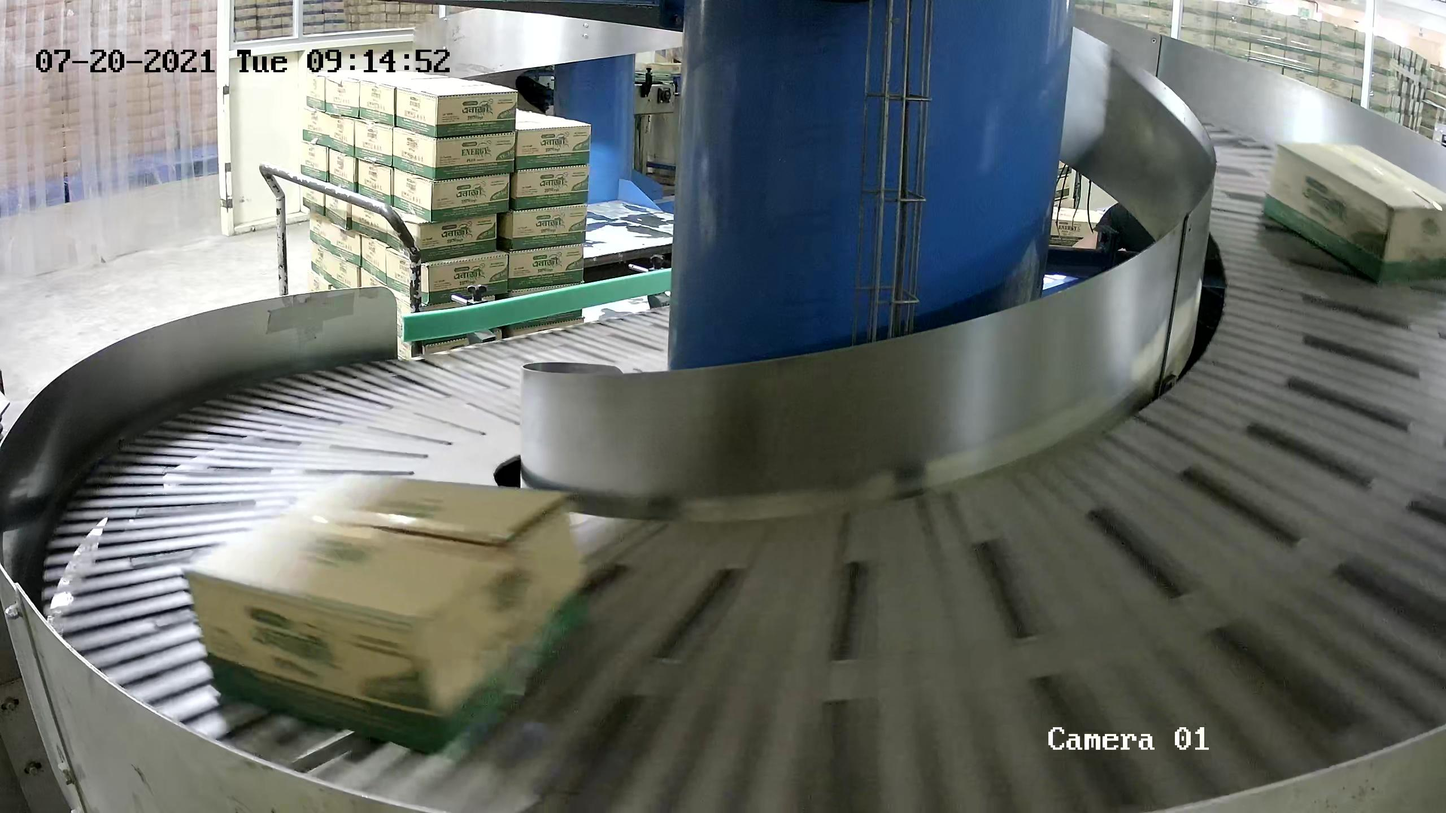Box: (186, 470, 595, 759), (1260, 134, 1446, 290)
